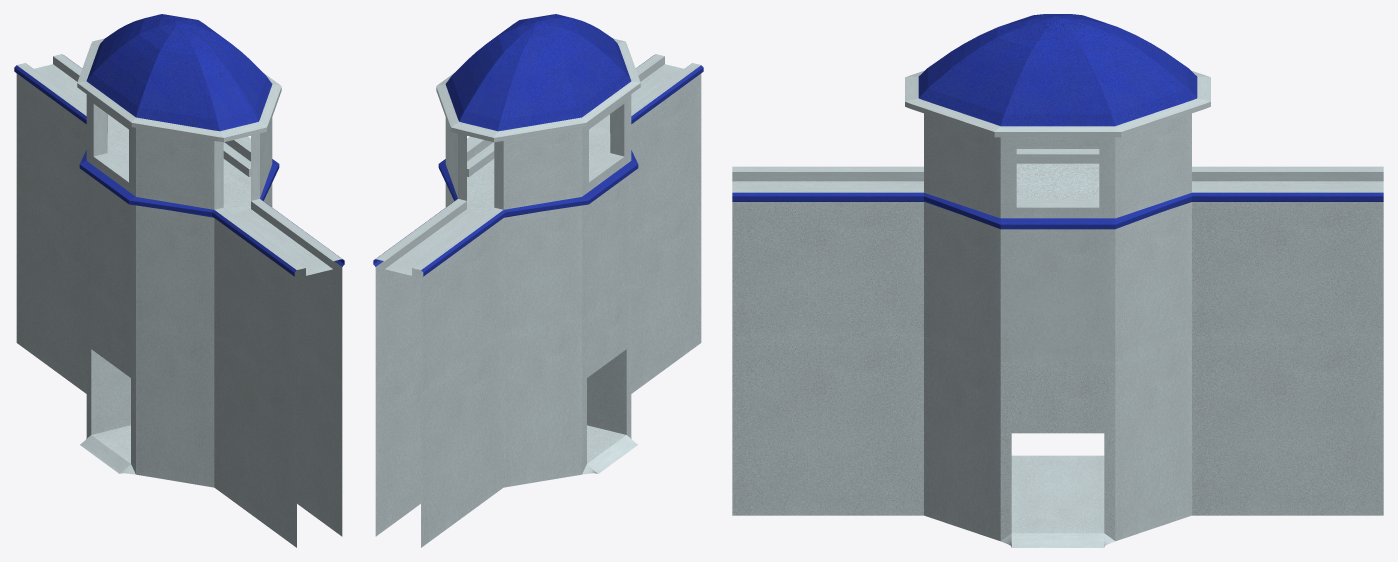
The model's file is Cat's Cape Village Wall Gate.glb.
3 renders of one model, left to right at view 1: azimuth 30°, elevation 25°; view 2: azimuth 150°, elevation 25°; view 3: azimuth 270°, elevation 25°, orthographic. The views are drawn at different scales.
Visible parts, largest first — view 1: Cube; view 2: Cube; view 3: Cube.
Boxes of the visible parts, x1=… form: Cube: x1=14, y1=14, x2=344, y2=547; Cube: x1=373, y1=14, x2=703, y2=547; Cube: x1=732, y1=14, x2=1383, y2=547.
Bounding box in the file's own units: 21.09 × 52.5 × 64.
Materials: 2 (2 with a texture image).
